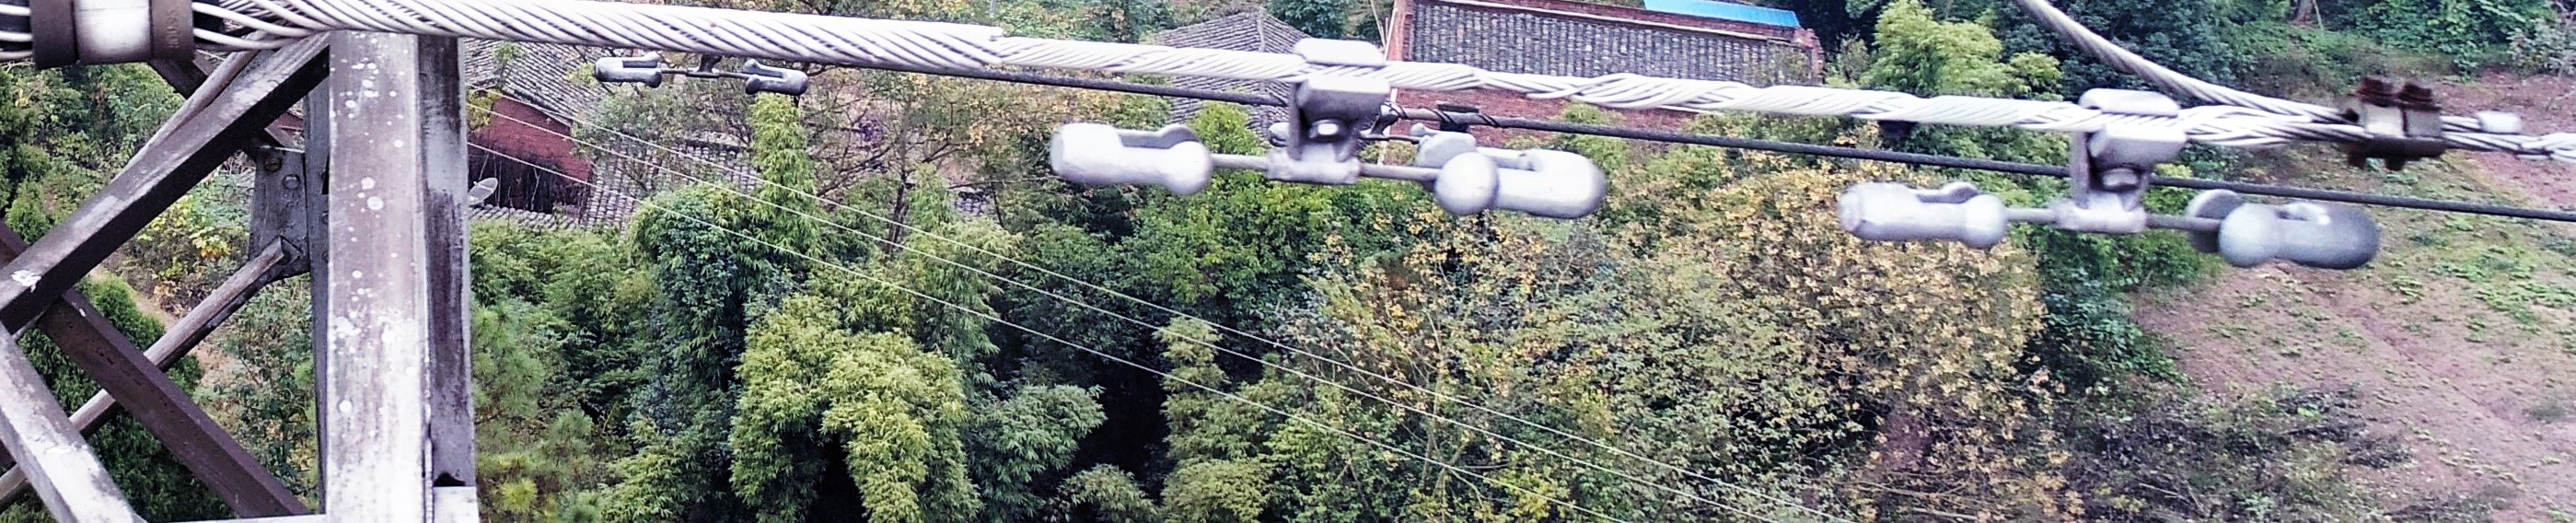Shockproof hammer: (1802, 64, 2403, 306), (1023, 16, 1630, 252)
